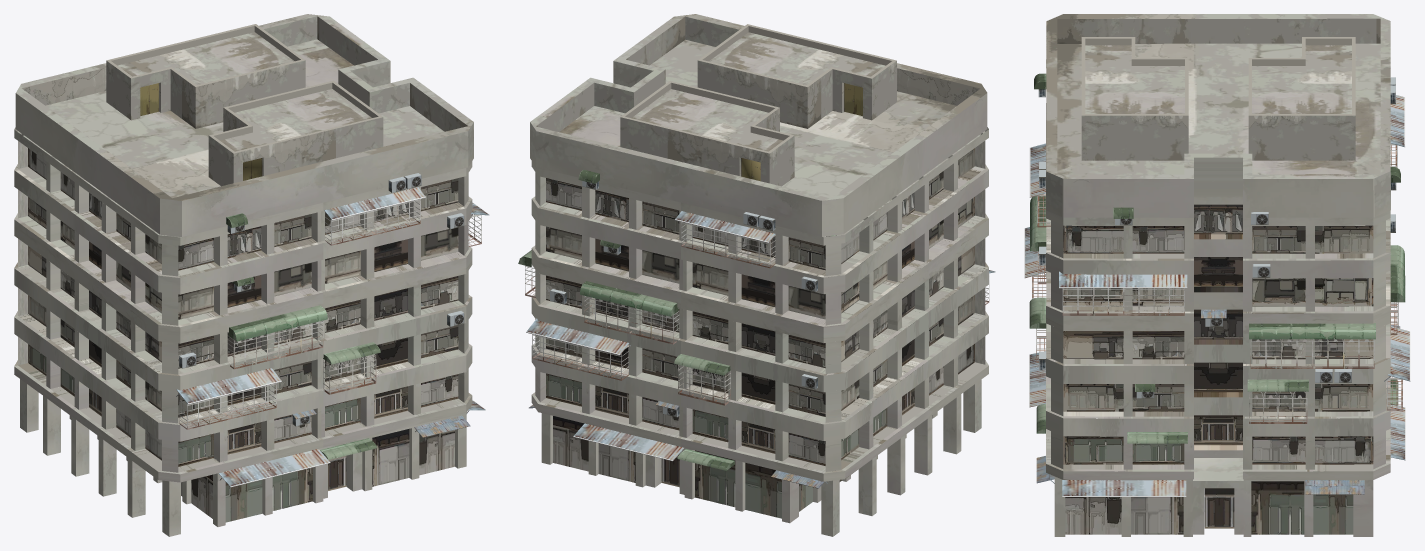
Rendered from asia-transformed.glb.
3 renders of one model, left to right at view 1: azimuth 30°, elevation 25°; view 2: azimuth 150°, elevation 25°; view 3: azimuth 270°, elevation 25°, orthographic. The views are drawn at different scales.
Parts seen in each view (by area): view 1: apartment_02_fine, polySurface3488, polySurface3490, polySurface3489, pPlane201_2, group26_2, pPlane197_2, pPlane200_2, pCube116_2, pPlane199_2, pCube121_2; view 2: apartment_02_fine, polySurface3488, polySurface3489, polySurface3490, pPlane201, group26, pPlane197, pPlane200, pCube116, pCube121; view 3: apartment_02_fine, polySurface3488, polySurface3489, polySurface3490, group26_3, pPlane197_3, pPlane200_3, pCube116_3, pPlane201, group26, group26_2, pPlane197_2 (+7 smaller).
Boxes of the visible parts, x1,y1,x2,y2 form: apartment_02_fine: (14,127,472,536); polySurface3488: (15,14,473,236); polySurface3490: (106,24,305,128); polySurface3489: (208,80,383,186); pPlane201_2: (176,368,281,429); group26_2: (227,305,327,369); pPlane197_2: (324,187,425,245); pPlane200_2: (218,449,330,487); pCube116_2: (323,342,380,394); pPlane199_2: (414,415,470,437); pCube121_2: (320,438,376,459); apartment_02_fine: (531,127,988,536); polySurface3488: (530,14,987,236); polySurface3489: (697,24,896,128); polySurface3490: (620,81,794,186); pPlane201: (526,318,630,380); group26: (580,281,679,344); pPlane197: (675,211,775,268); pPlane200: (573,423,683,461); pCube116: (674,354,730,405); pCube121: (677,449,734,470); apartment_02_fine: (1046,59,1390,536); polySurface3488: (1046,14,1390,217); polySurface3489: (1081,37,1188,160); polySurface3490: (1248,37,1355,160); group26_3: (1249,323,1375,368); pPlane197_3: (1059,271,1187,315); pPlane200_3: (1062,480,1186,496); pCube116_3: (1247,379,1308,423); pPlane201: (1384,326,1410,410); group26: (1390,245,1404,334); group26_2: (1030,196,1046,283); pPlane197_2: (1029,143,1050,227).
Size of the model in its own units: 169 by 175 by 160.
Materials: 5 (5 with a texture image).
